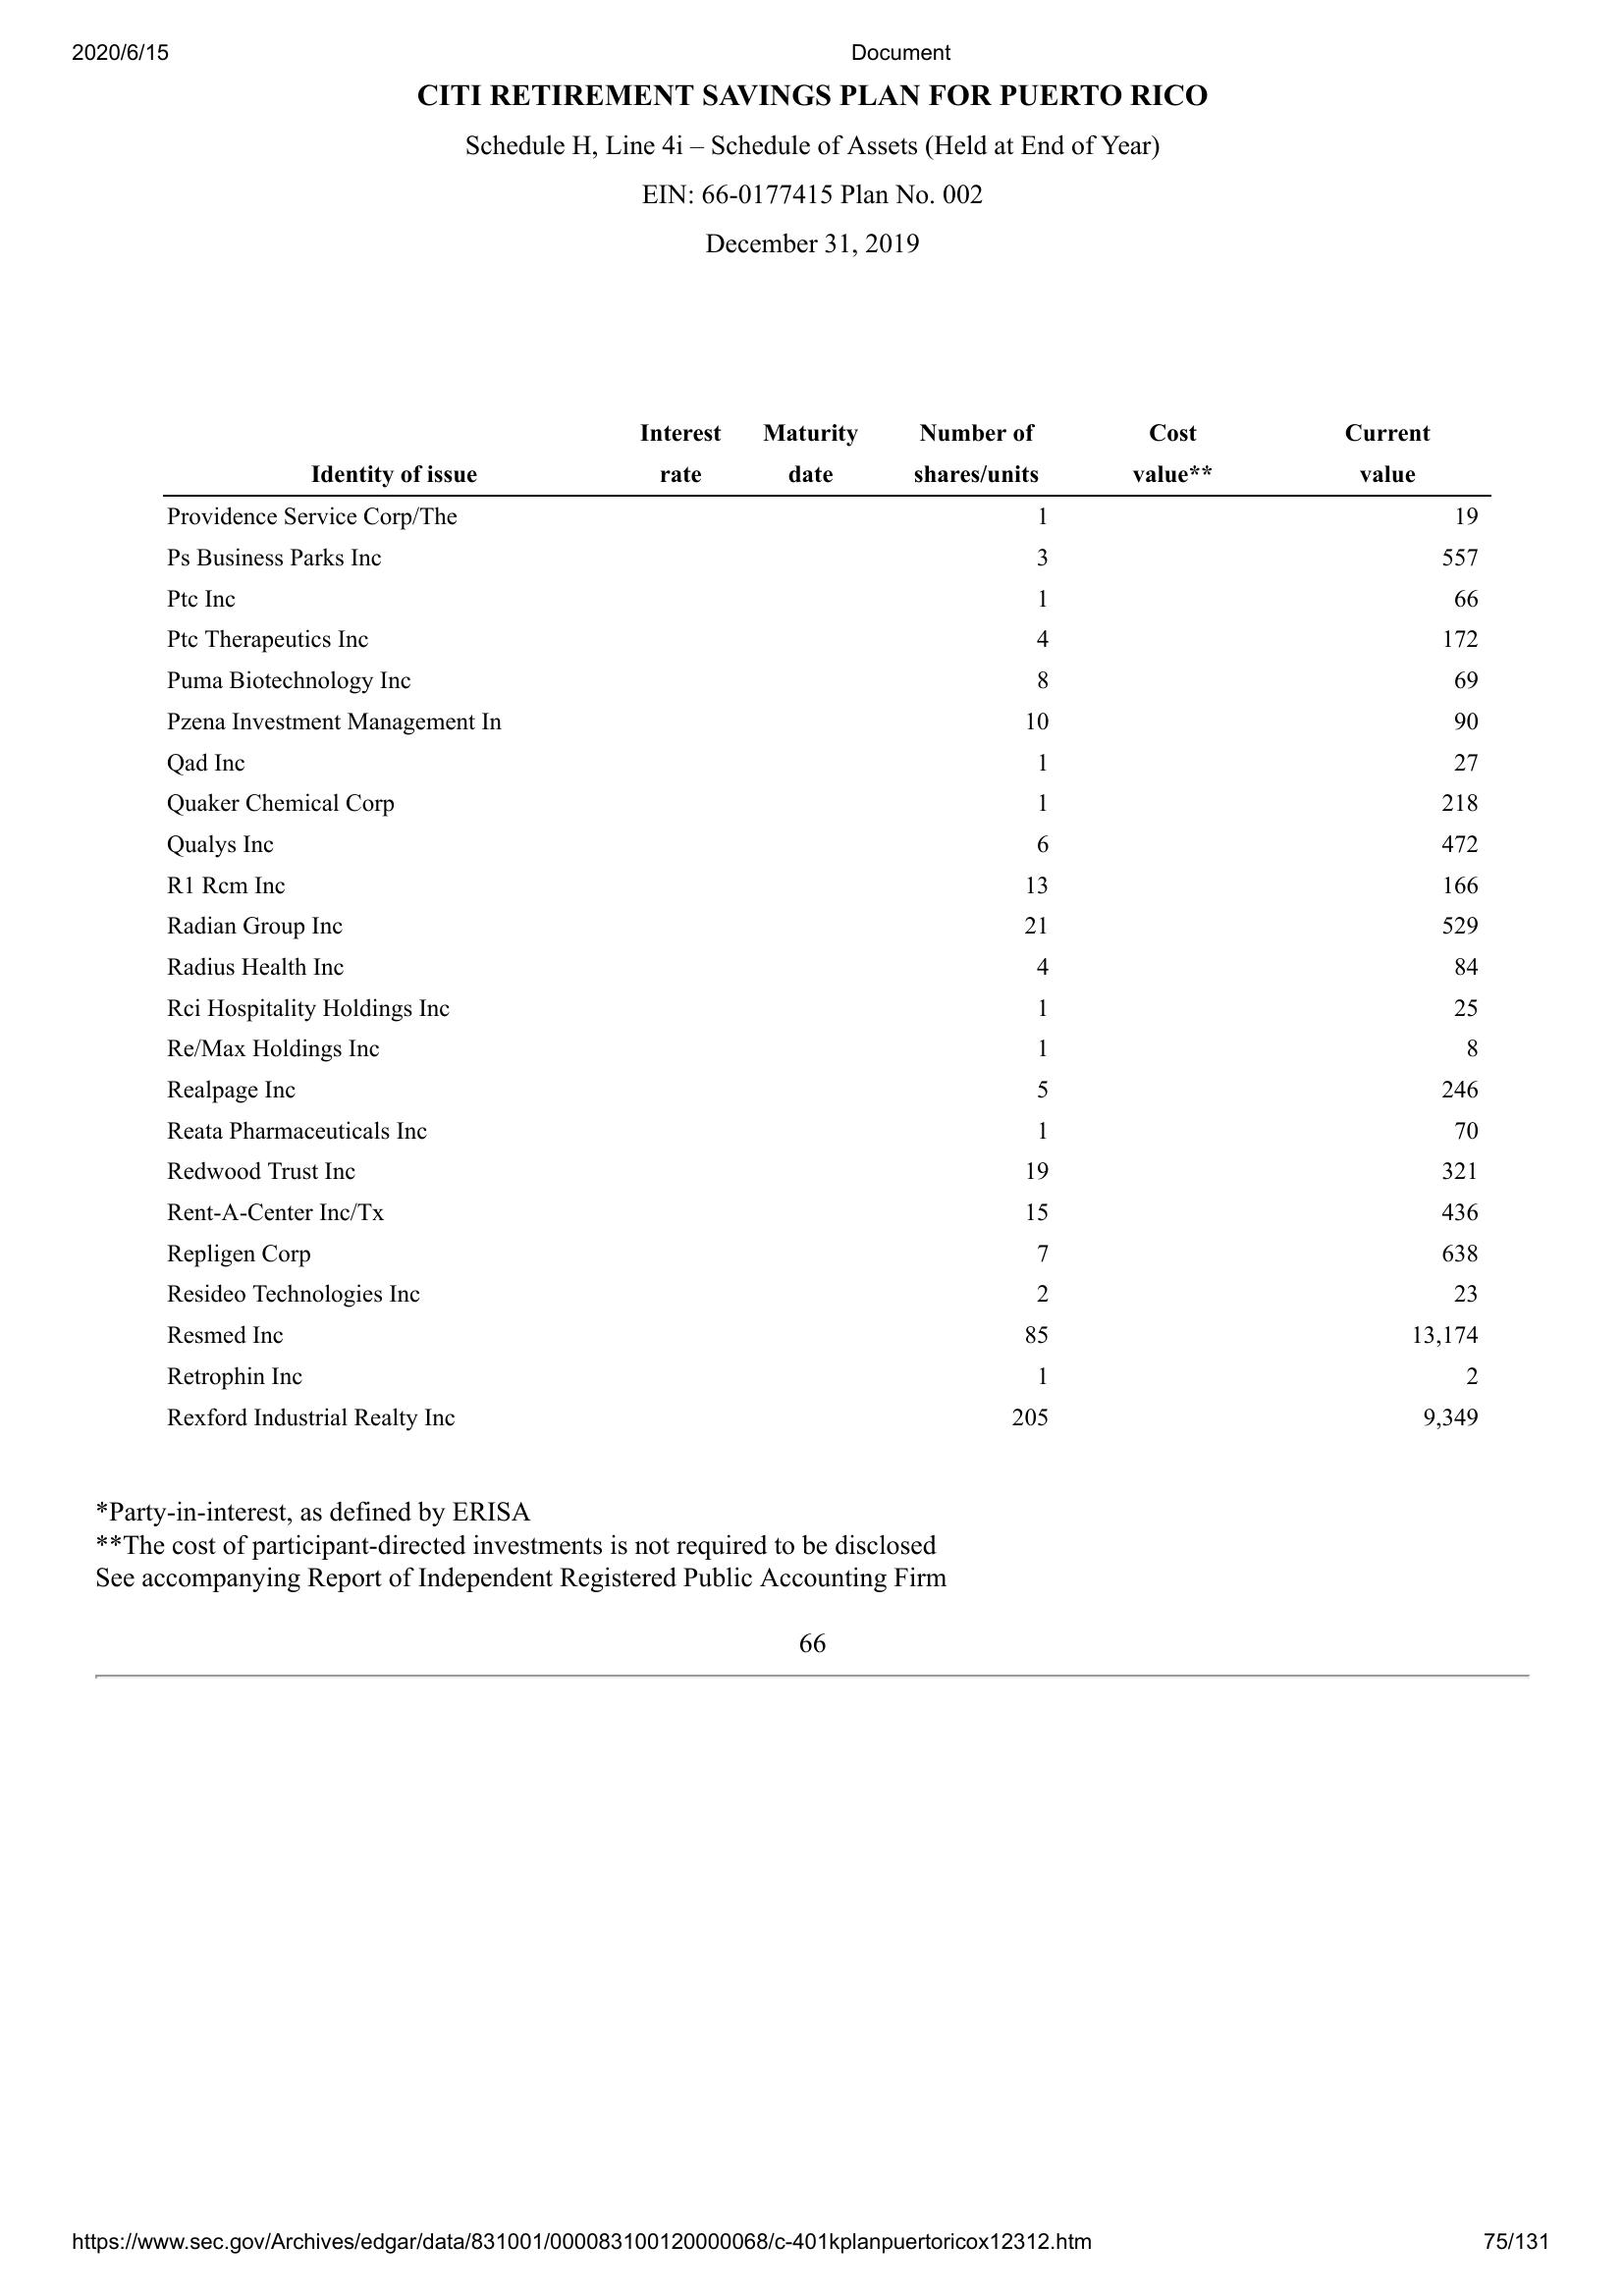table: (153, 411, 1500, 1436)
